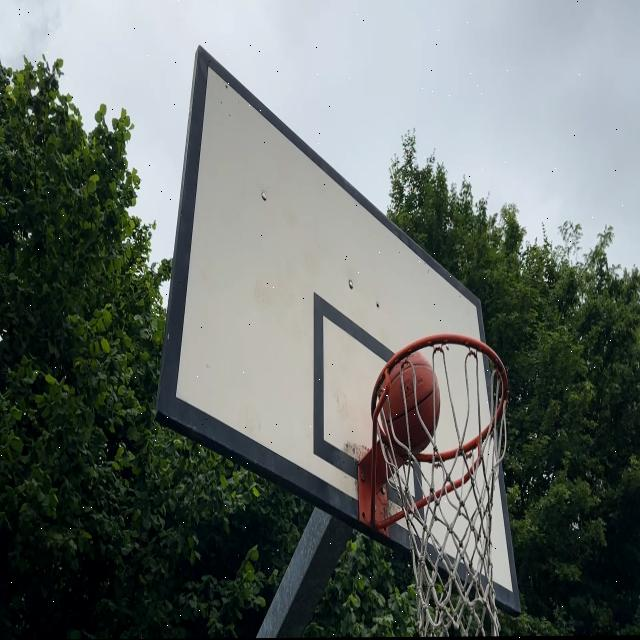rebound_hit: (379, 348, 441, 460)
